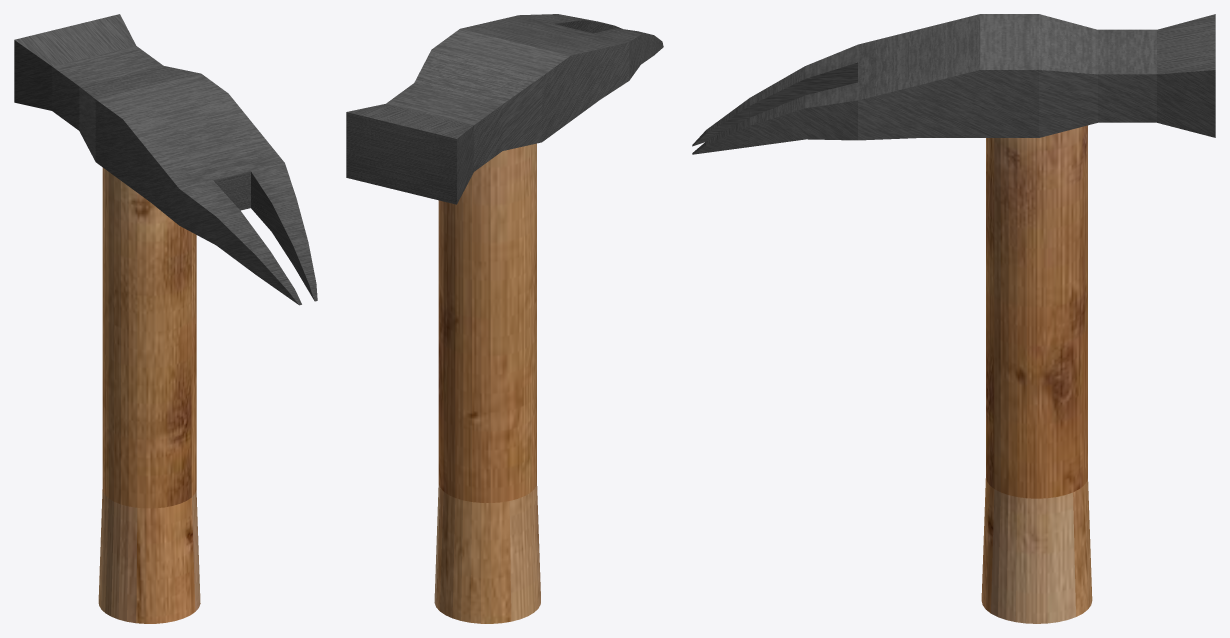
File: removalTool(myself).fbx
3 views of the same model, side by side, from view 1: azimuth 30°, elevation 25°; view 2: azimuth 150°, elevation 25°; view 3: azimuth 270°, elevation 25° (orthographic). The views are drawn at different scales.
Parts seen in each view (by area): view 1: 圓柱體.001, 立方體; view 2: 圓柱體.001, 立方體; view 3: 圓柱體.001, 立方體.
Boxes of the visible parts, x1=… form: 圓柱體.001: x1=98, y1=167, x2=200, y2=623; 立方體: x1=14, y1=14, x2=317, y2=305; 圓柱體.001: x1=434, y1=143, x2=540, y2=623; 立方體: x1=346, y1=14, x2=663, y2=204; 圓柱體.001: x1=981, y1=125, x2=1092, y2=623; 立方體: x1=692, y1=14, x2=1215, y2=154.
Size of the model in its own units: 38.87 by 181 by 154.
2 materials, 2 textured.
